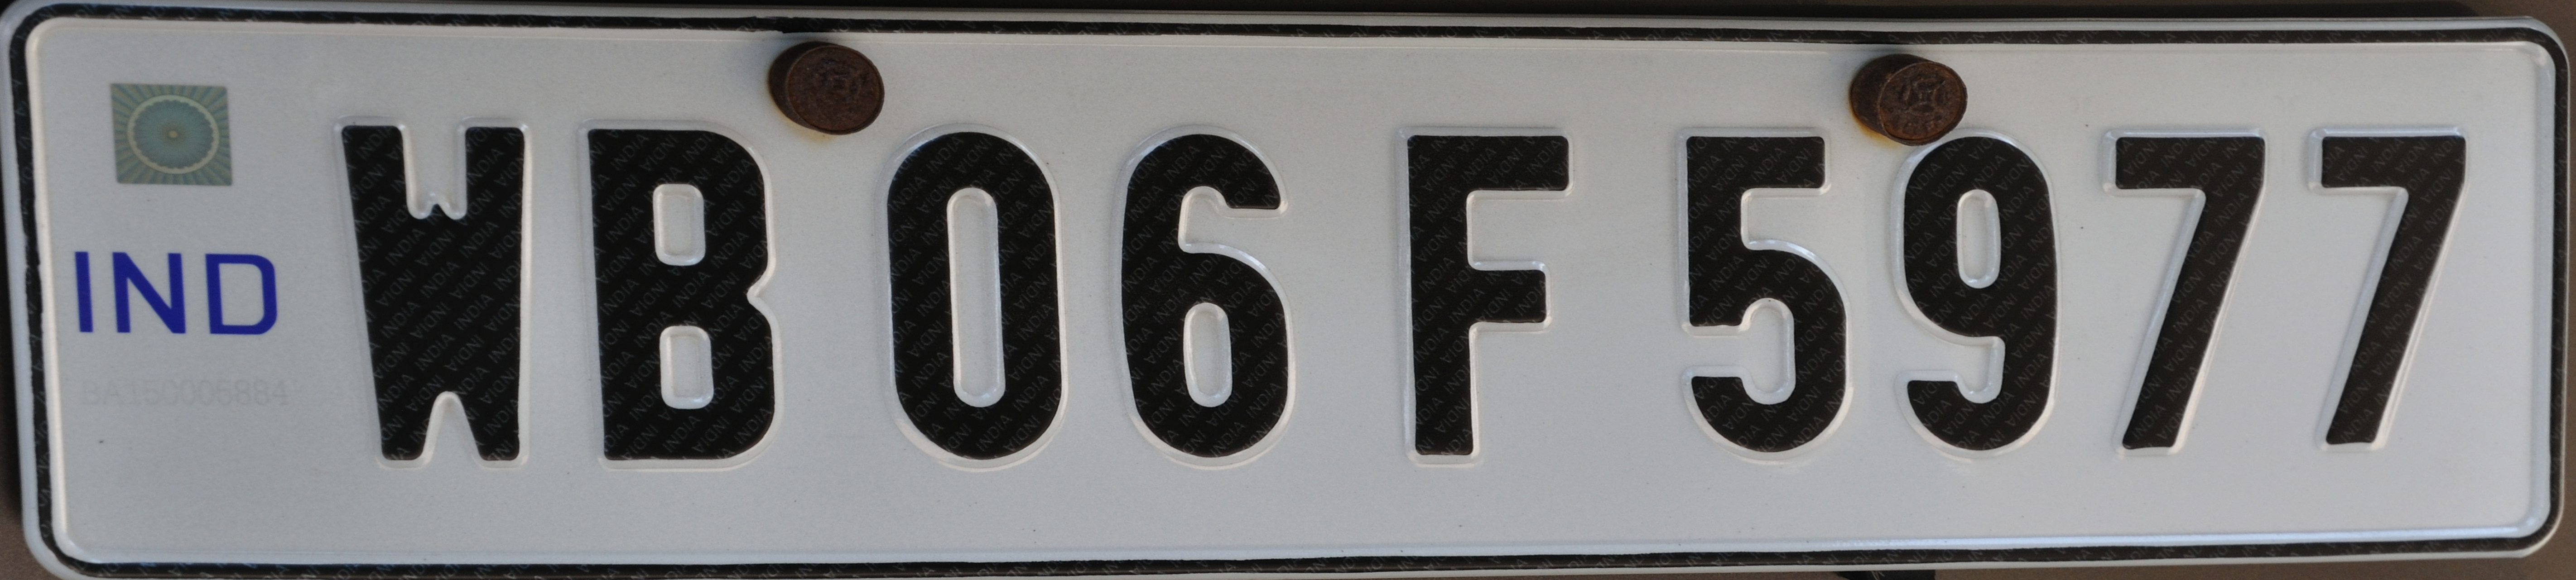numberplate: (15, 10, 2576, 566)
